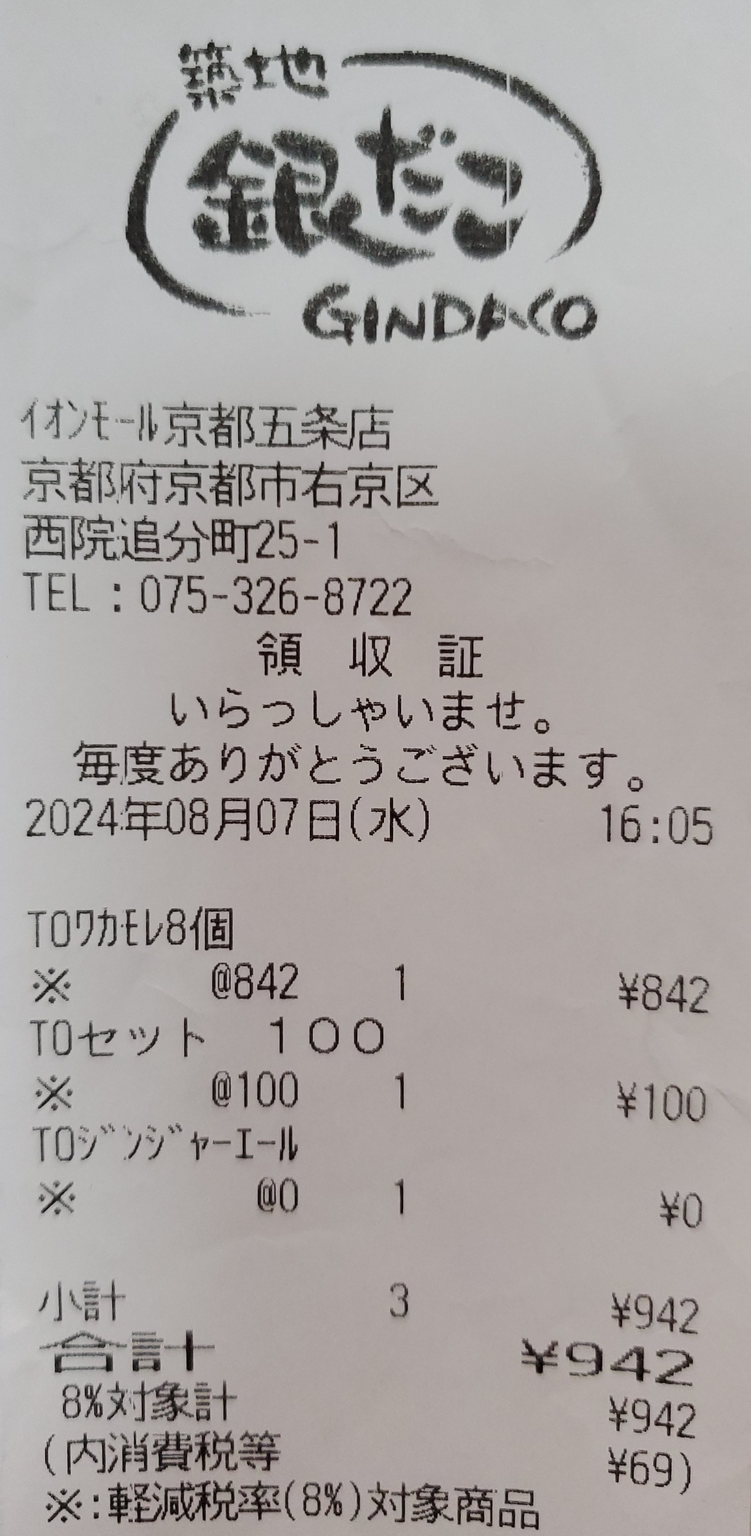Date: (14, 787, 343, 853)
Shopname: (70, 24, 689, 375)
Telnum: (136, 562, 430, 625)
Totalpay: (34, 1330, 730, 1386)
